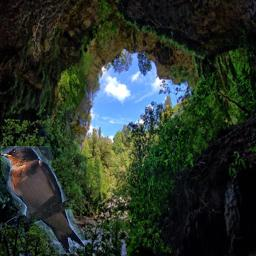Swallow: (1, 146, 85, 254)
